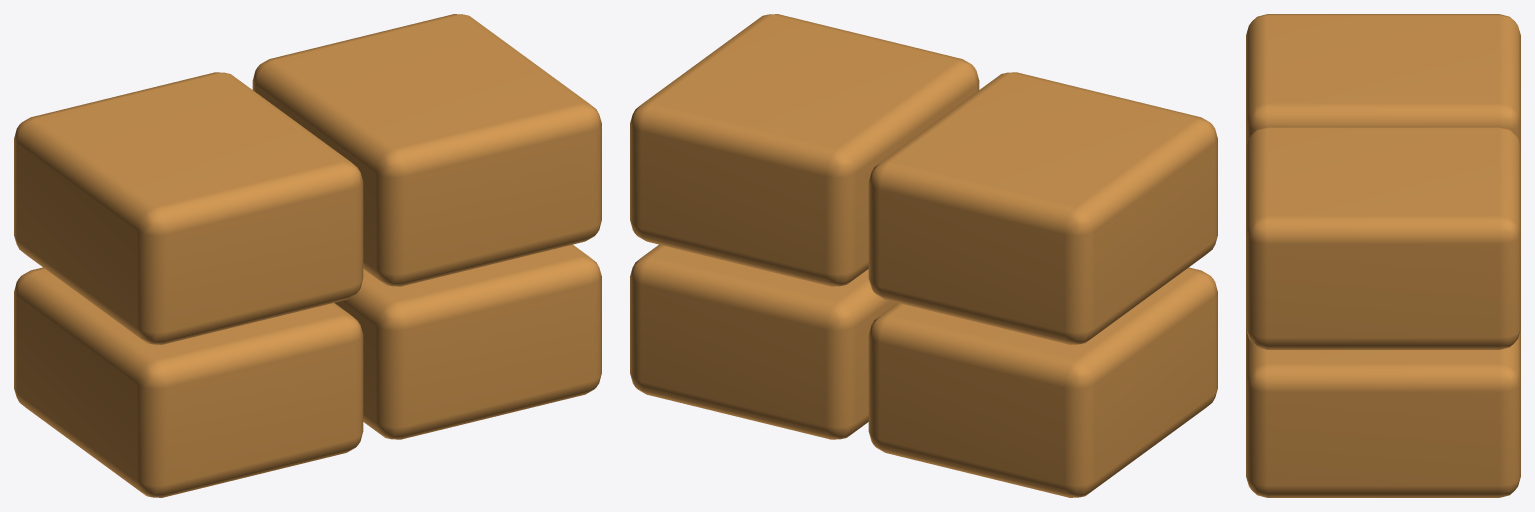
The model's file is bonus_wall.glb.
3 renders of one model, left to right at view 1: azimuth 30°, elevation 25°; view 2: azimuth 150°, elevation 25°; view 3: azimuth 270°, elevation 25°, orthographic. The views are drawn at different scales.
Parts seen in each view (by area): view 1: Bonus masonry.002, Bonus masonry.003, Bonus masonry, Bonus masonry.001; view 2: Bonus masonry.002, Bonus masonry.003, Bonus masonry, Bonus masonry.001; view 3: Bonus masonry.003, Bonus masonry.001, Bonus masonry.002.
Part boxes in pixels (x1,y1,x2,y2): Bonus masonry.002: (14, 72, 363, 344); Bonus masonry.003: (252, 14, 601, 286); Bonus masonry: (14, 267, 363, 497); Bonus masonry.001: (334, 244, 601, 439); Bonus masonry.002: (868, 72, 1217, 344); Bonus masonry.003: (630, 14, 979, 286); Bonus masonry: (868, 267, 1217, 497); Bonus masonry.001: (630, 244, 897, 439); Bonus masonry.003: (1246, 126, 1520, 349); Bonus masonry.001: (1246, 329, 1520, 497); Bonus masonry.002: (1246, 14, 1520, 146).
Size of the model in its own units: 0.6 by 0.36 by 0.32.
